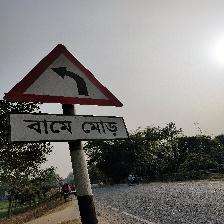Left-Turn: (1, 44, 127, 145)
